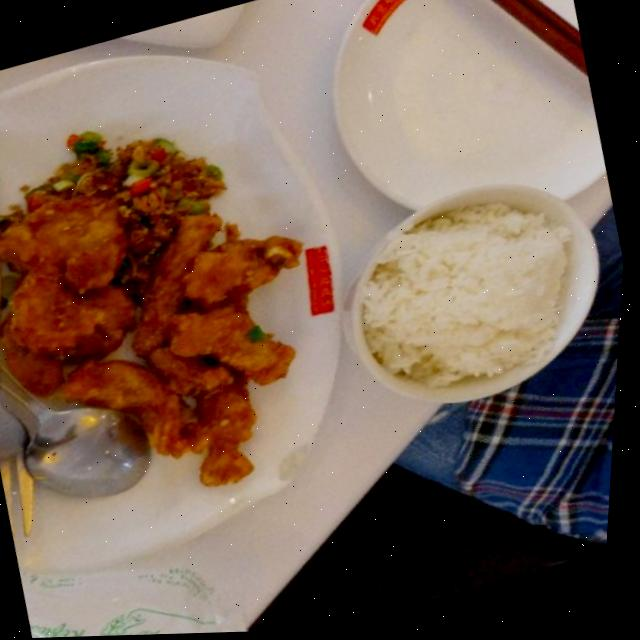米饭主食: (310, 150, 632, 430)
